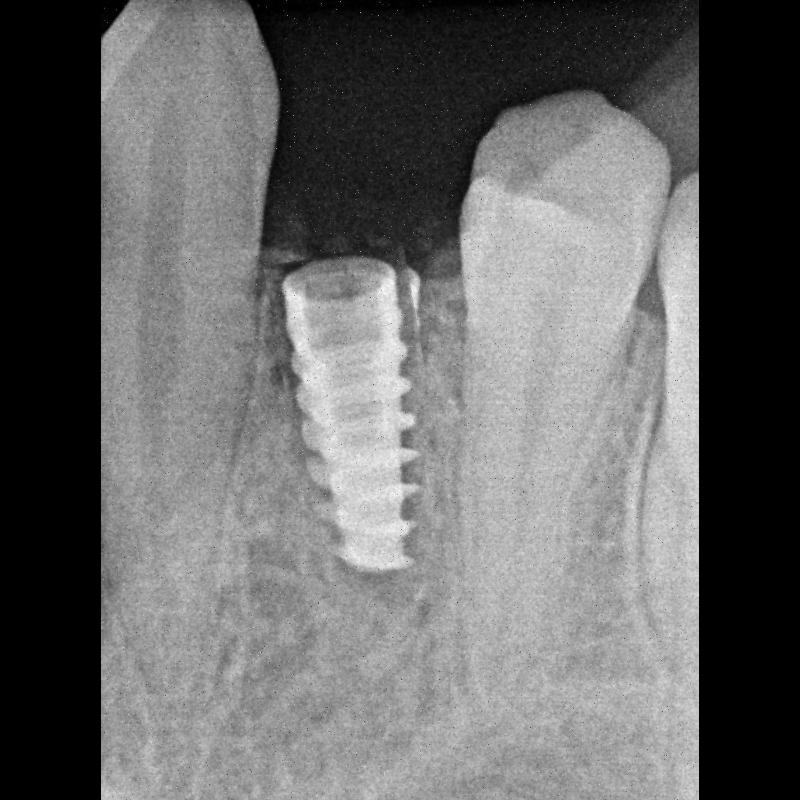ADIN: (277, 248, 447, 594)
